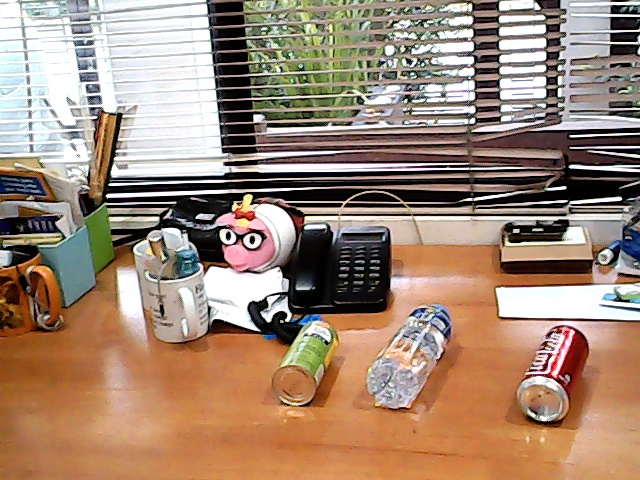Cola: (500, 307, 606, 437)
Pine Juice: (262, 307, 351, 416)
Summit Water: (352, 288, 464, 422)
